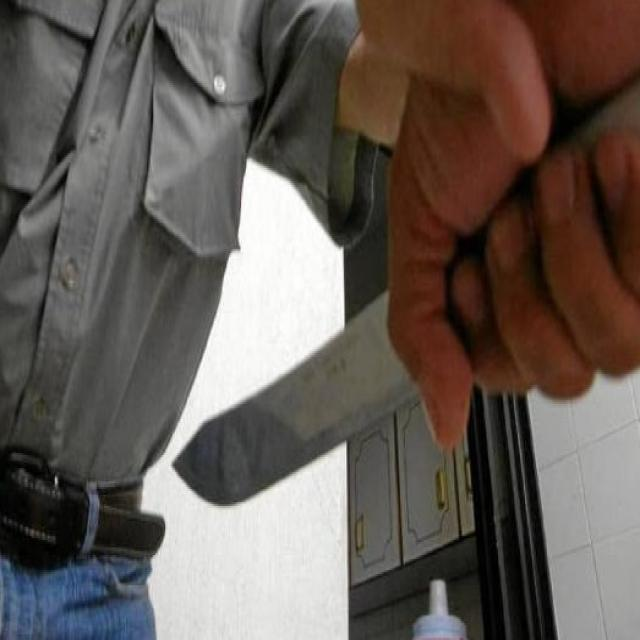knife: (166, 287, 390, 522)
